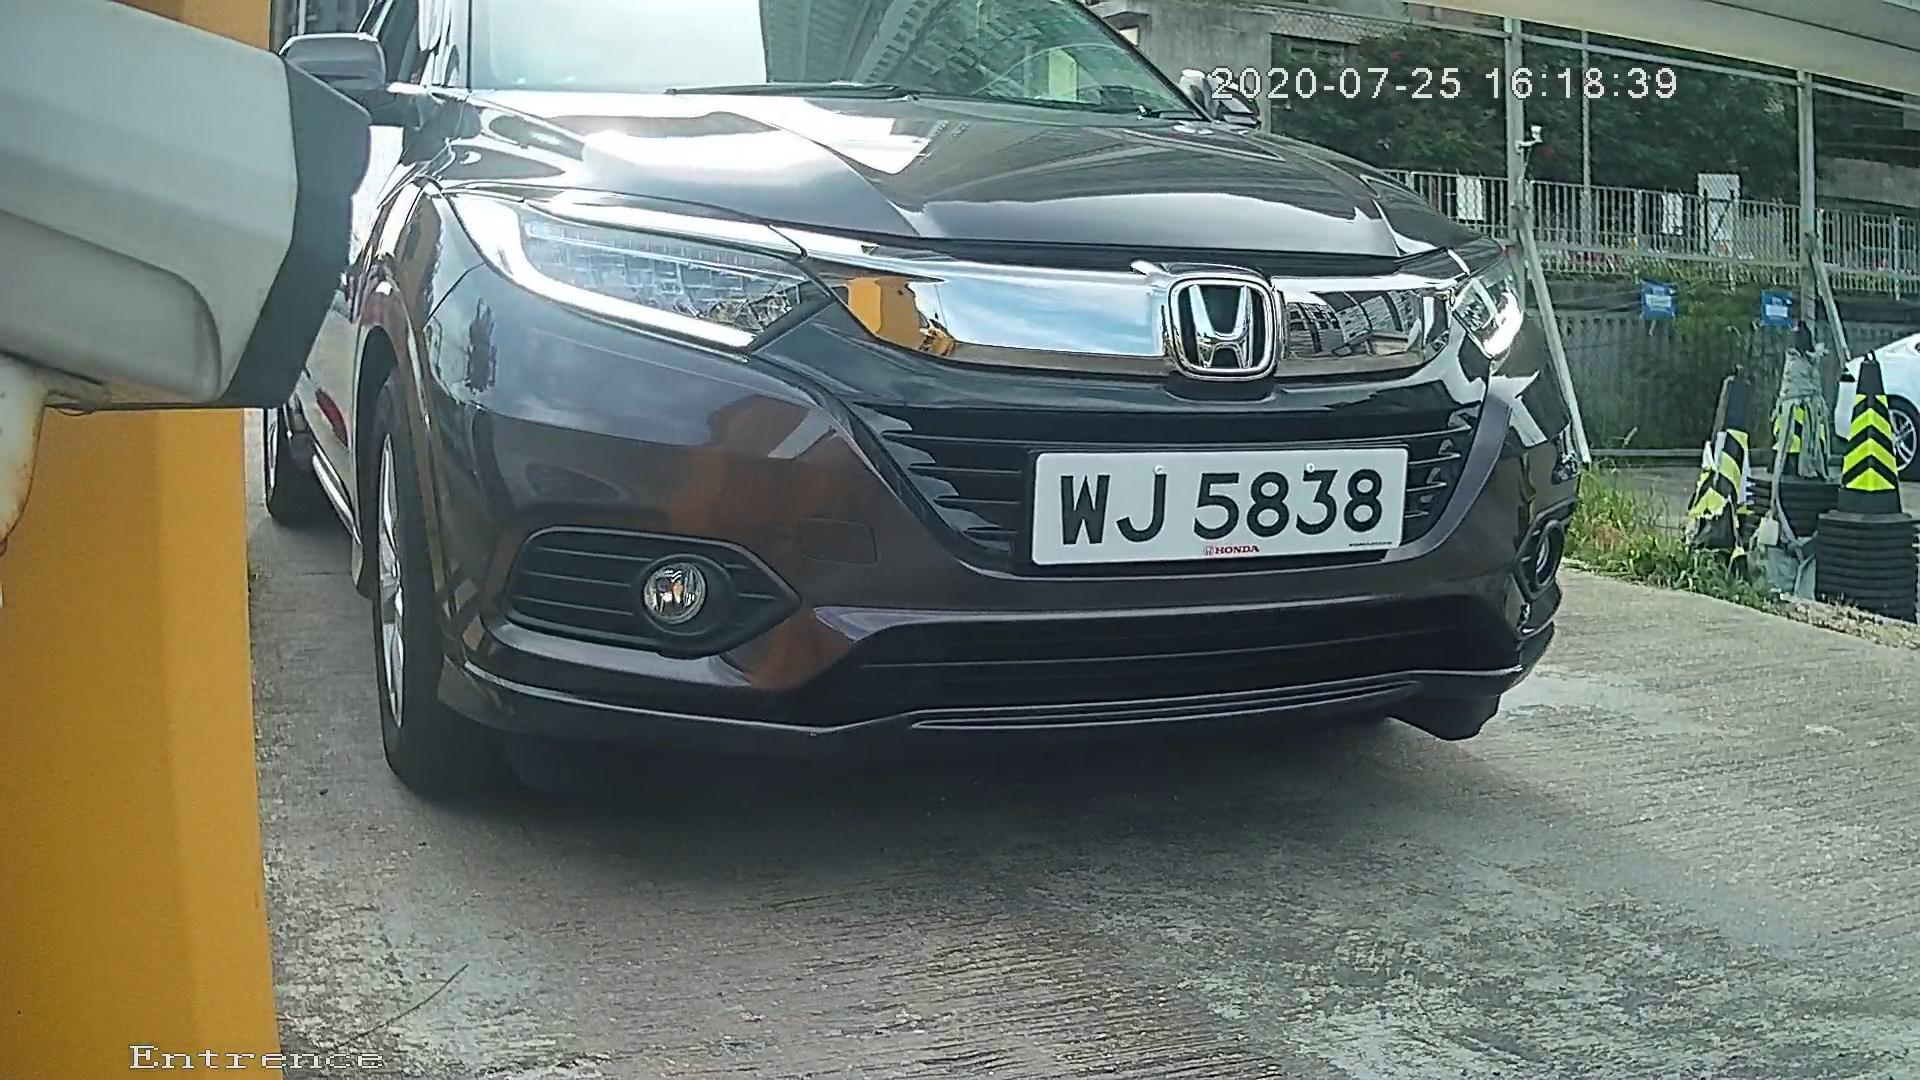privatecar: (248, 3, 1604, 845)
